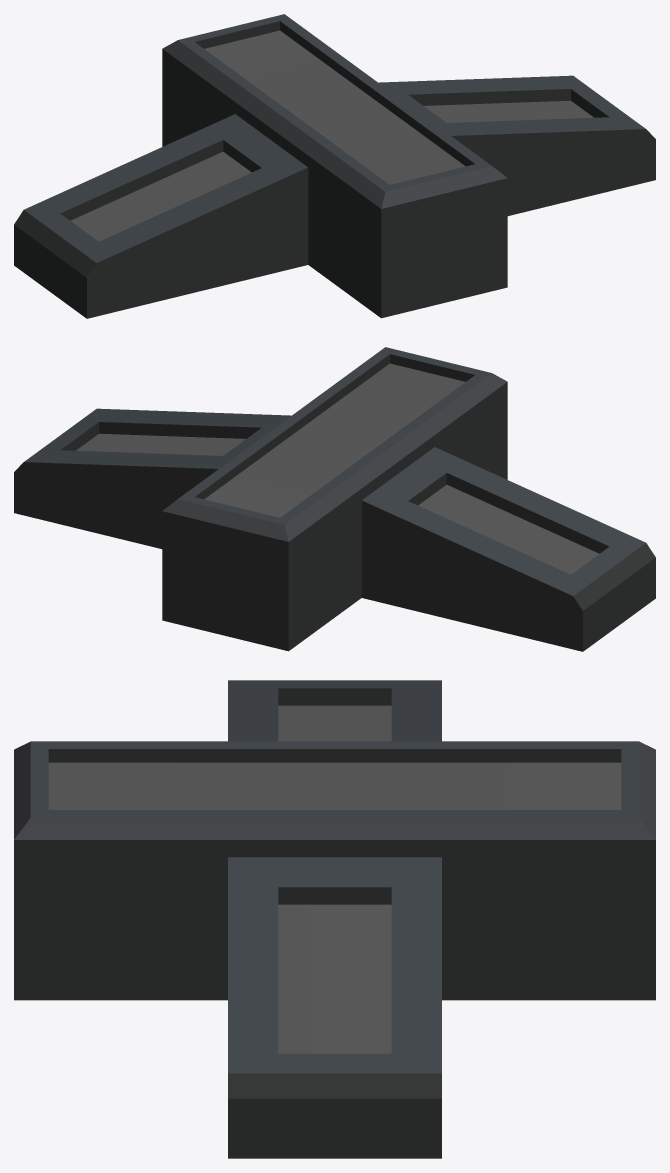
Rendered from LightCross_03.glb.
3 views of the same model, one above another, from view 1: azimuth 30°, elevation 25°; view 2: azimuth 150°, elevation 25°; view 3: azimuth 270°, elevation 25° (orthographic). The views are drawn at different scales.
Parts seen in each view (by area): view 1: LightCross_03; view 2: LightCross_03; view 3: LightCross_03.
Boxes of the visible parts, left/top/right/bottom form: LightCross_03: left=14, top=14, right=655, bottom=318; LightCross_03: left=14, top=347, right=655, bottom=651; LightCross_03: left=14, top=680, right=655, bottom=1158.
Size of what is drawn, in the model's own units: 1.88 by 0.3781 by 1.25.
Materials: 2 (2 with a texture image).
